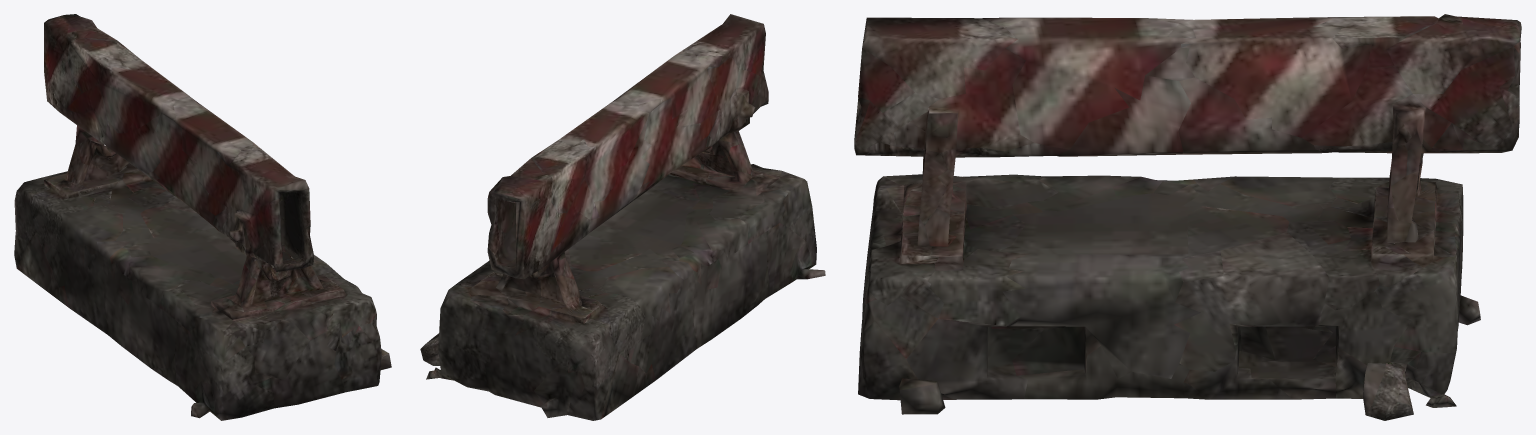
The model's file is blockset_a0.glb.
3 renders of one model, left to right at view 1: azimuth 30°, elevation 25°; view 2: azimuth 150°, elevation 25°; view 3: azimuth 270°, elevation 25°, orthographic. The views are drawn at different scales.
Bounding box in the file's own units: 57.35 × 57.35 × 111.
Materials: 1 (1 with a texture image).
